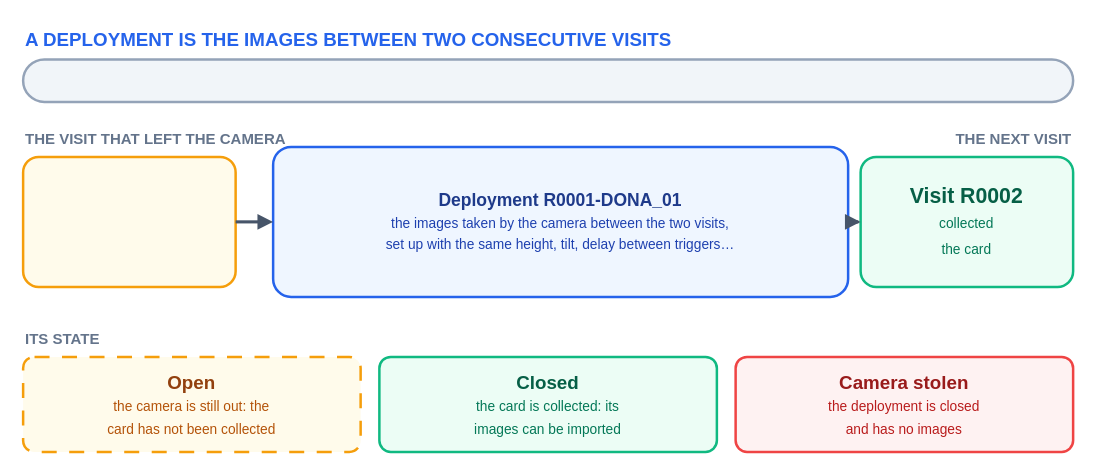
This 1095x474 diagram has some shape labels left out. The box of each missing label's shape, as (x1, y1, x2, y2) in pixels:
One location — some GPS coordinates and a timezone — one camera: (21, 58, 1074, 102)
Visit R0001 left the camera and its card: (21, 155, 236, 288)
